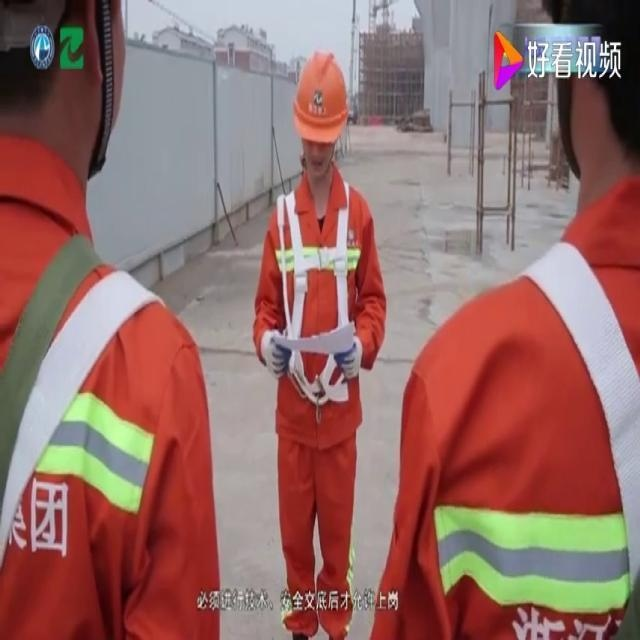Arnes_seguridad: (269, 175, 361, 412)
